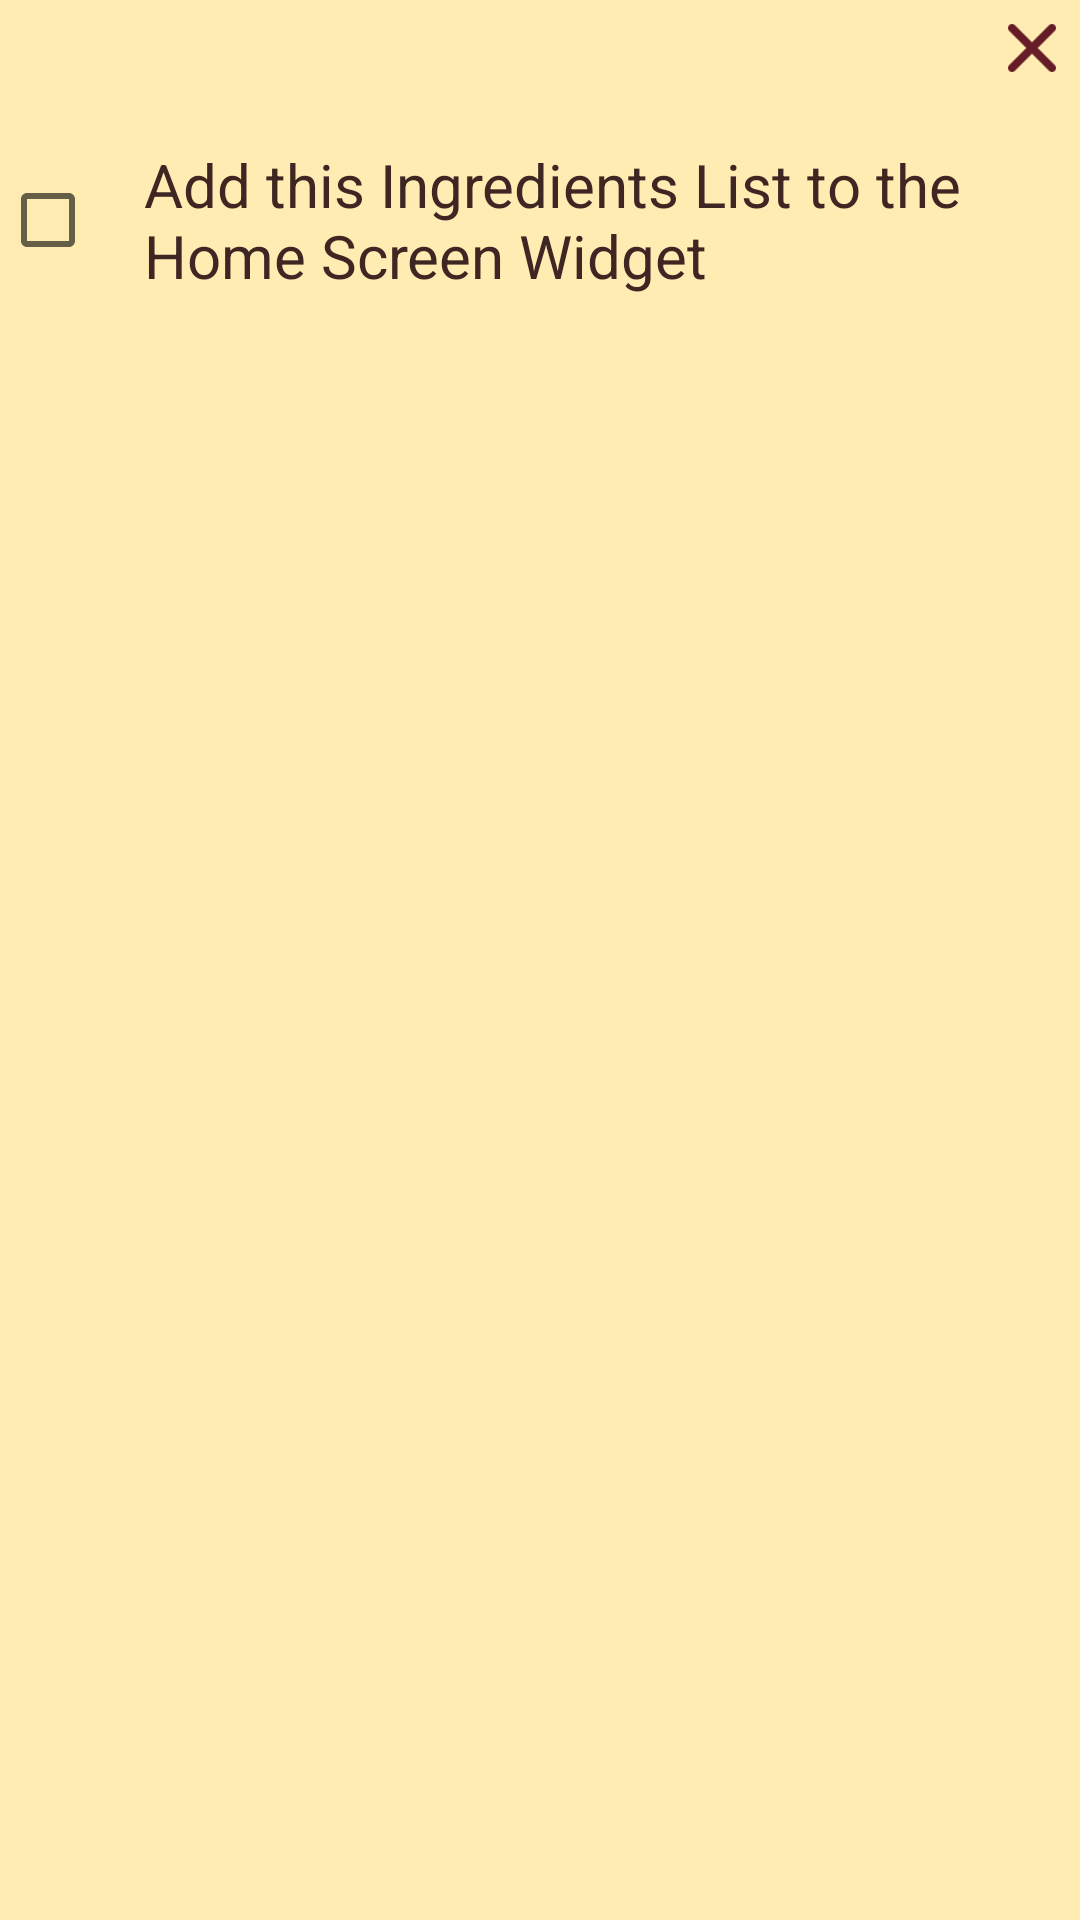

Icons on this 1080 x 1920 Android screen, each with its box as (x1, y1, x2, y2):
close: (1008, 24, 1056, 72)
